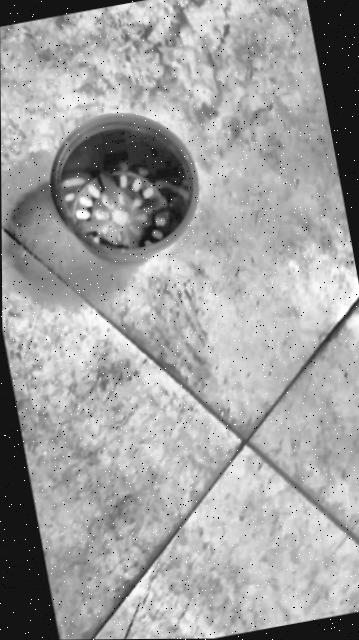pot: (37, 101, 210, 276)
